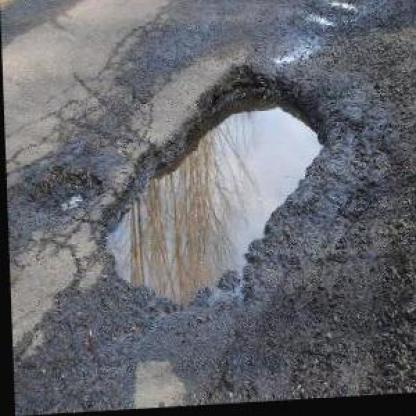pothole: (92, 58, 332, 318), (18, 158, 101, 218)
